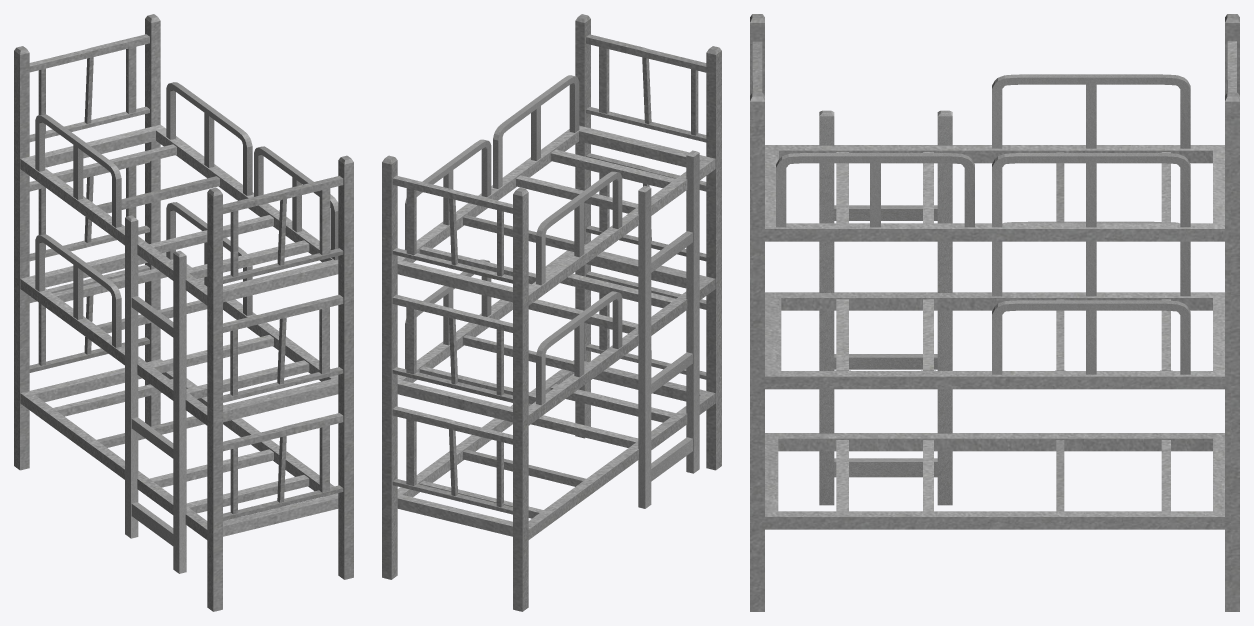
File: Bed.fbx
3 renders of one model, left to right at view 1: azimuth 30°, elevation 25°; view 2: azimuth 150°, elevation 25°; view 3: azimuth 270°, elevation 25°, orthographic. The views are drawn at different scales.
Parts seen in each view (by area): view 1: Bed; view 2: Bed; view 3: Bed.
Part boxes in pixels (x1=…): Bed: x1=14, y1=14, x2=353, y2=611; Bed: x1=382, y1=14, x2=721, y2=611; Bed: x1=750, y1=14, x2=1239, y2=611.
Bounding box in the file's own units: 6.95 × 19 × 16.39.
Materials: 7 (7 with a texture image).
